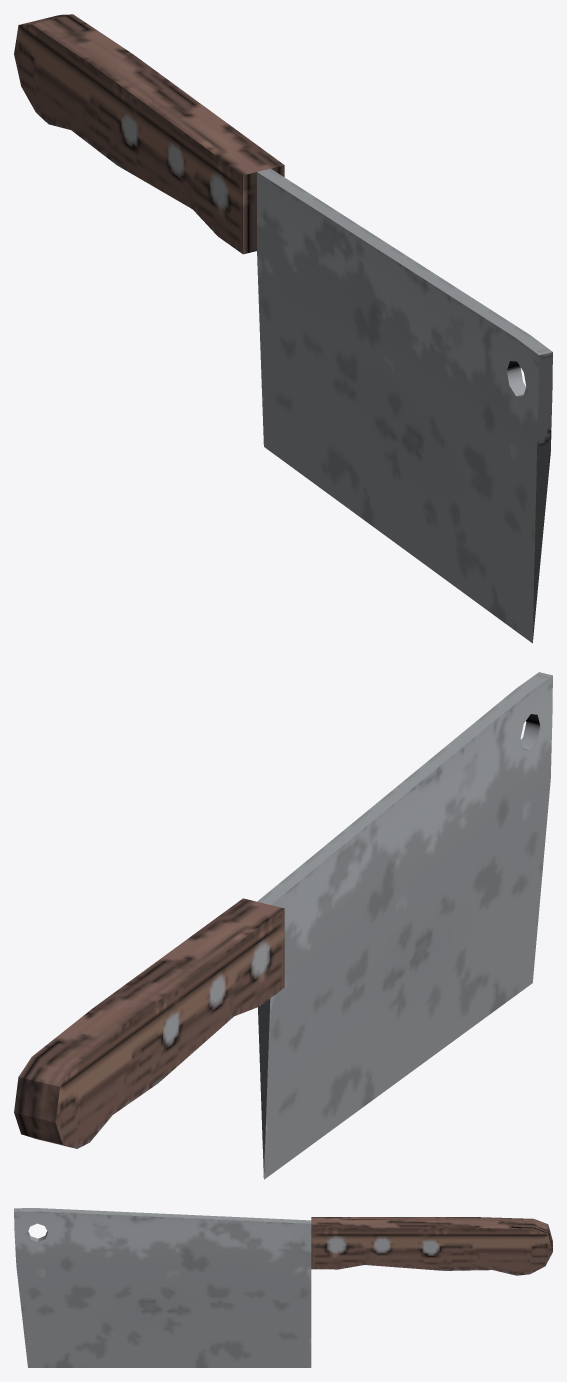
The model's file is Cleaver.fbx.
The picture shows the model from 3 angles, top to bottom: view 1: azimuth 30°, elevation 25°; view 2: azimuth 150°, elevation 25°; view 3: azimuth 270°, elevation 25°; orthographic projection. The views are drawn at different scales.
Parts seen in each view (by area): view 1: polySurface3; view 2: polySurface3; view 3: polySurface3.
Part boxes in pixels (x1,y1,x2,y2): polySurface3: [14, 14, 552, 643]; polySurface3: [14, 672, 552, 1179]; polySurface3: [14, 1208, 552, 1367].
Bounding box in the file's own units: 2.46 × 16.95 × 52.35.
